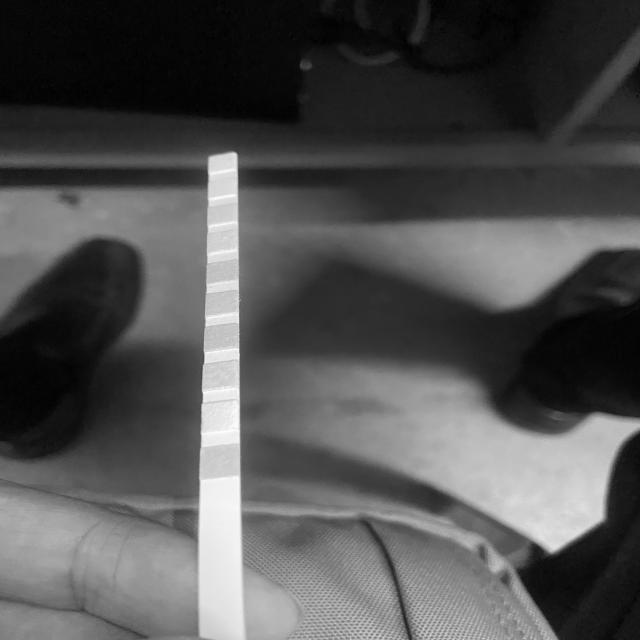Bilirubin: (202, 404, 240, 429)
Blood: (206, 295, 238, 313)
Glucose: (200, 448, 240, 476)
Ketone: (203, 365, 239, 386)
Leukocytes: (209, 158, 237, 170)
Nitrite: (208, 183, 238, 196)
Protein: (207, 234, 238, 250)
SpGravity: (205, 327, 239, 348)
Urobilinogen: (208, 208, 238, 222)
background: (0, 0, 640, 640)
pH: (207, 264, 239, 280)
strip: (199, 152, 245, 629)
